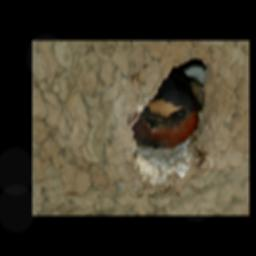Swallow: (132, 69, 200, 149)
